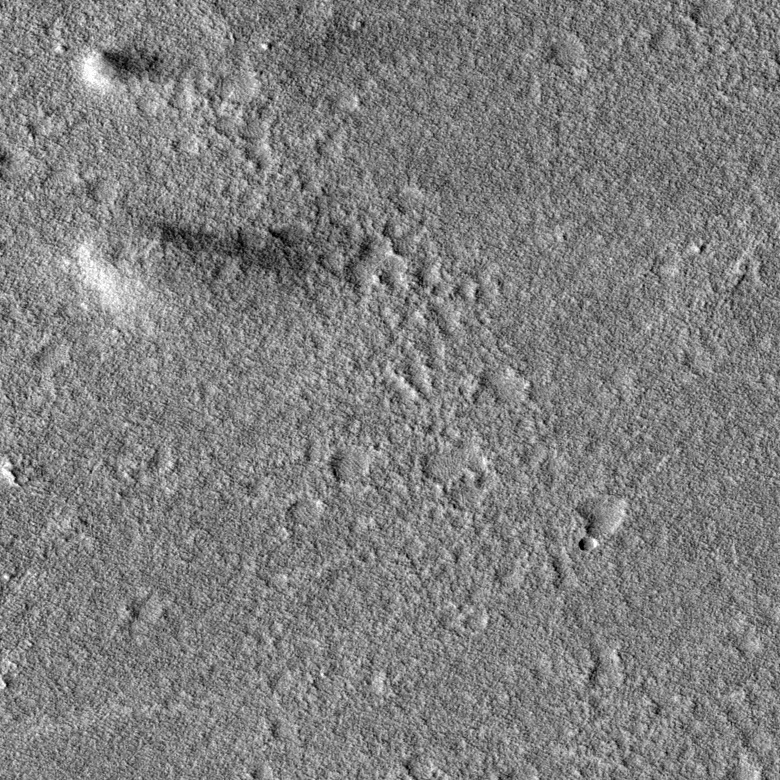dust_devil: (60, 218, 376, 316), (79, 45, 167, 96)
